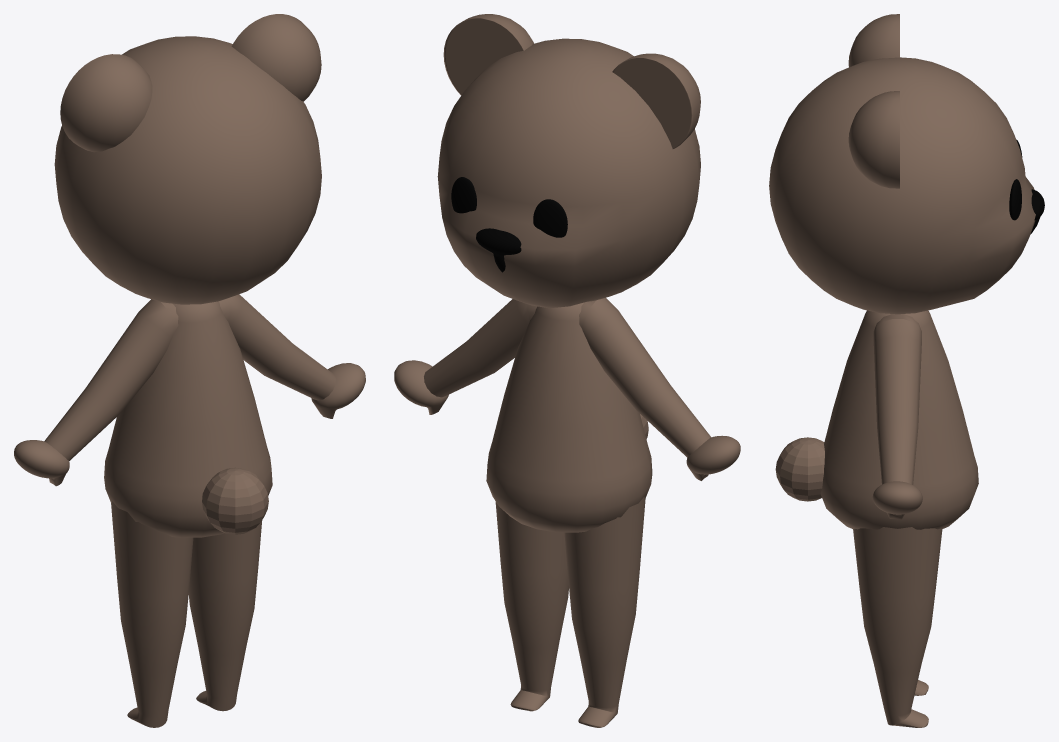
The model's file is Player.fbx.
3 renders of one model, left to right at view 1: azimuth 30°, elevation 25°; view 2: azimuth 150°, elevation 25°; view 3: azimuth 270°, elevation 25°, orthographic. The views are drawn at different scales.
Parts seen in each view (by area): view 1: Player; view 2: Player; view 3: Player.
Part boxes in pixels (<box>): Player: <box>14,14,365,727</box>; Player: <box>394,14,740,727</box>; Player: <box>769,14,1044,727</box>.
Size of the model in its own units: 84.93 by 159 by 61.27.
